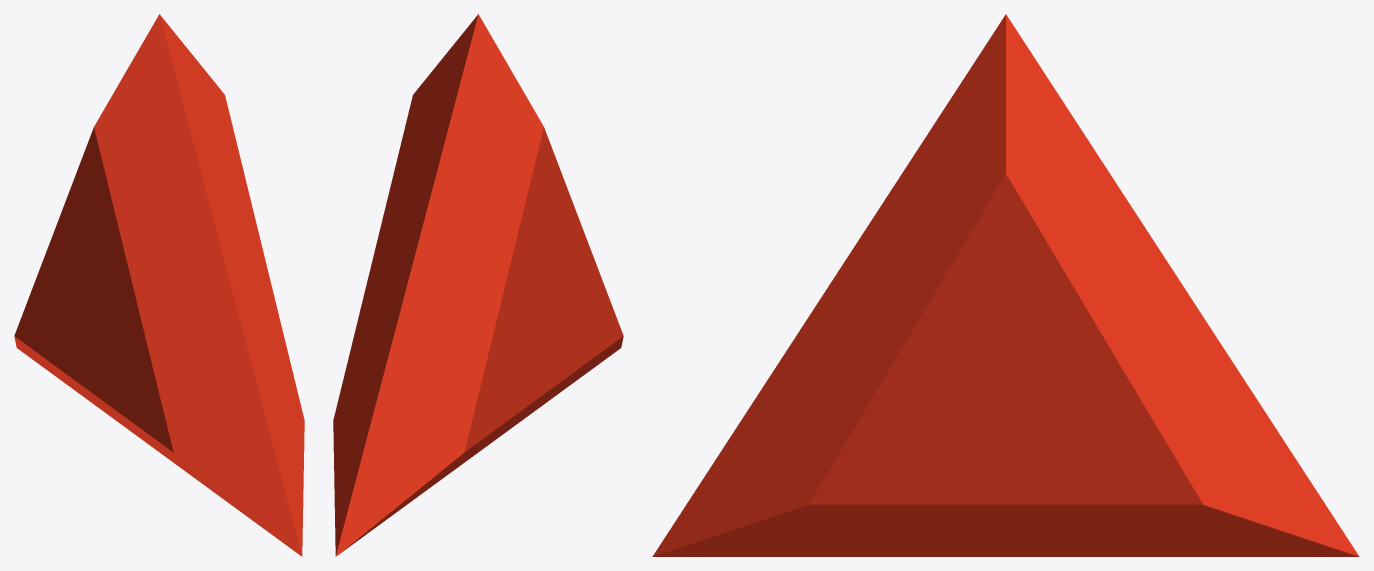
File: linemate.obj
3 renders of one model, left to right at view 1: azimuth 30°, elevation 25°; view 2: azimuth 150°, elevation 25°; view 3: azimuth 270°, elevation 25°, orthographic. The views are drawn at different scales.
Parts seen in each view (by area): view 1: Amber_Plane.005; view 2: Amber_Plane.005; view 3: Amber_Plane.005.
Boxes of the visible parts, left/top/right/bottom form: Amber_Plane.005: left=14, top=14, right=304, bottom=556; Amber_Plane.005: left=333, top=14, right=623, bottom=556; Amber_Plane.005: left=652, top=14, right=1359, bottom=556.
Size of the model in its own units: 0.2811 by 0.8986 by 1.06.
